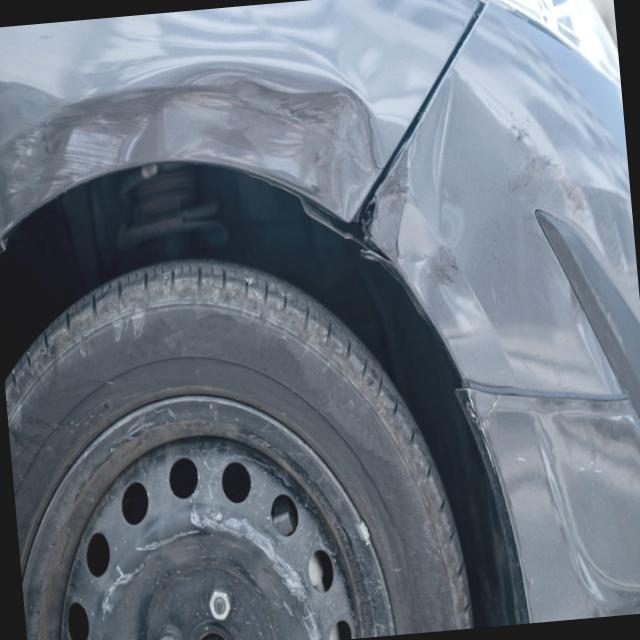Cabossage: (0, 53, 402, 322), (378, 165, 464, 343)
Rayure: (513, 133, 638, 296), (455, 378, 512, 435)
